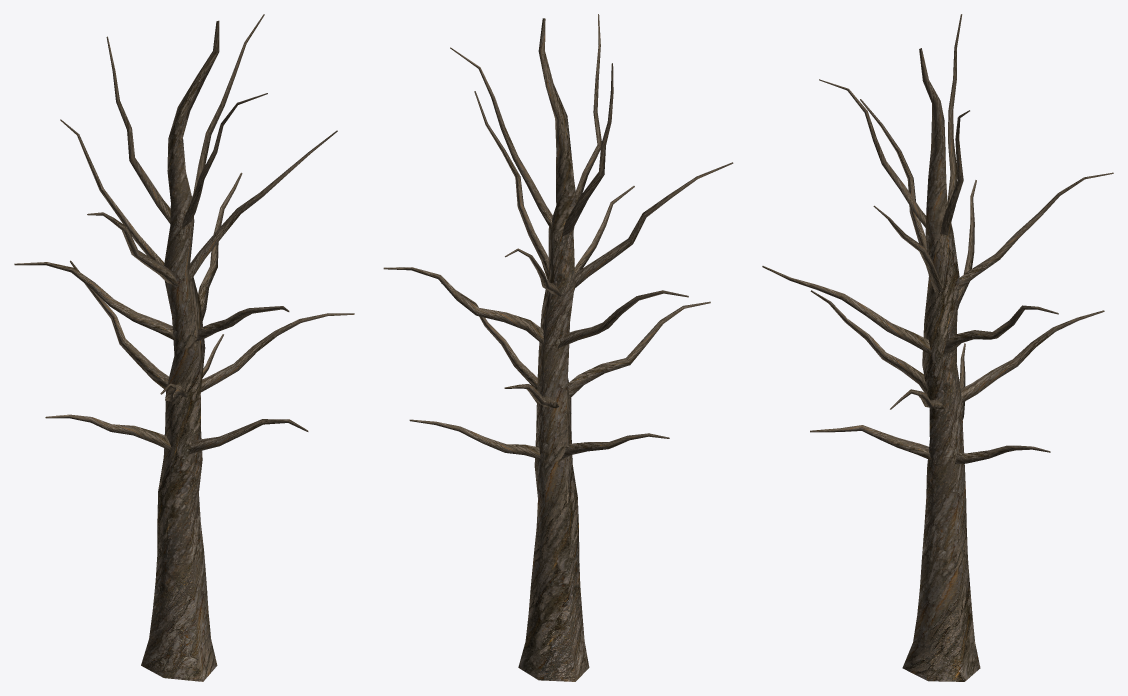
The model's file is tree_base.glb.
The picture shows the model from 3 angles, left to right: view 1: azimuth 30°, elevation 25°; view 2: azimuth 150°, elevation 25°; view 3: azimuth 270°, elevation 25°; orthographic projection. The views are drawn at different scales.
Parts seen in each view (by area): view 1: tree_base; view 2: tree_base; view 3: tree_base.
Part boxes in pixels (x1,y1,x2,y2): tree_base: (14, 14, 354, 681); tree_base: (383, 14, 733, 681); tree_base: (762, 14, 1113, 681).
Size of the model in its own units: 4.71 by 9.83 by 4.96.
1 material, 1 textured.
